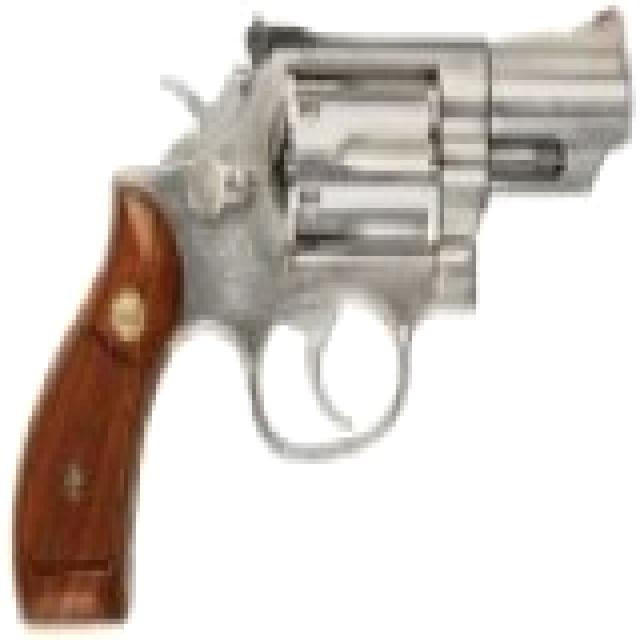pistol: (24, 0, 636, 613)
